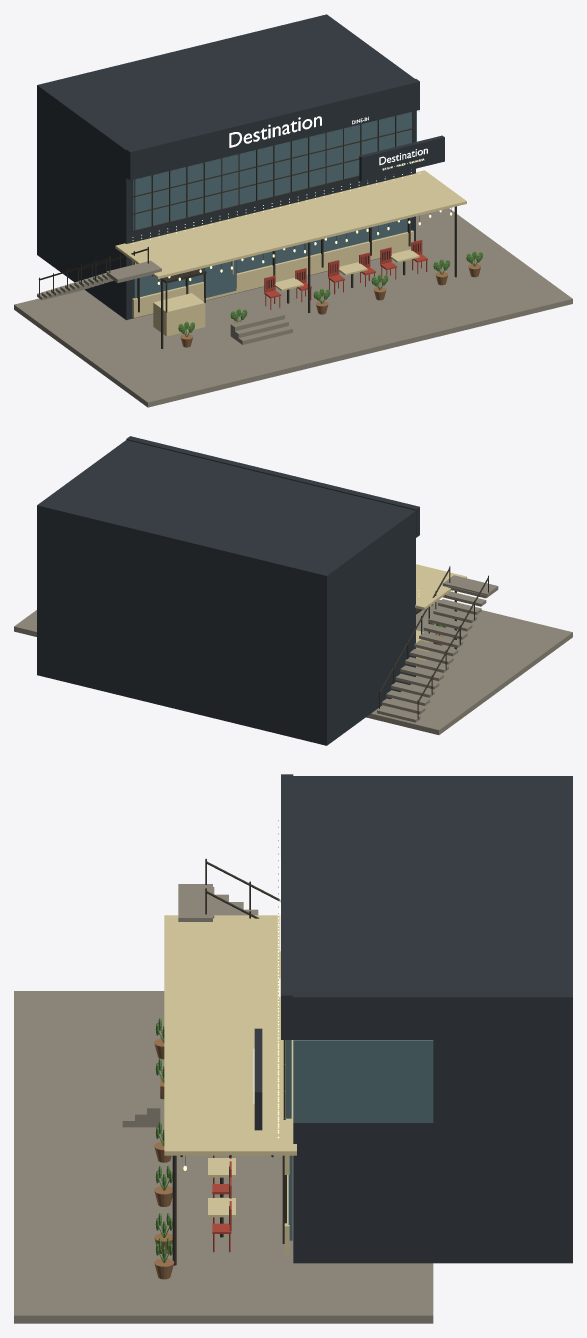
Rendered from destination_dine_in.glb.
The picture shows the model from 3 angles, top to bottom: view 1: azimuth 30°, elevation 25°; view 2: azimuth 150°, elevation 25°; view 3: azimuth 270°, elevation 25°; orthographic projection. The views are drawn at different scales.
Parts seen in each view (by area): view 1: Restaurant estimated body, Forecourt, Entrance canopy.002, Upper panoramic glass, Top name fascia, Ground lower cream band, Ground glazing, Projecting name board, Shawarma counter, Ground entrance door, Upper stair landing, Destination upper name (+2 smaller); view 2: Restaurant estimated body, Forecourt, Top name fascia, Entrance canopy.002, Upper stair landing; view 3: Restaurant estimated body, Forecourt, Entrance canopy.002, Upper side glass, Top name fascia, Upper stair landing, Projecting name board, Front access step.
Part boxes in pixels (box(x1,y1,x2,y2)): Restaurant estimated body: box(37, 14, 415, 320); Forecourt: box(14, 208, 572, 407); Entrance canopy.002: box(115, 170, 466, 279); Upper panoramic glass: box(131, 112, 412, 230); Top name fascia: box(126, 79, 419, 180); Ground lower cream band: box(132, 230, 413, 317); Ground glazing: box(133, 218, 410, 298); Projecting name board: box(359, 135, 444, 181); Shawarma counter: box(153, 293, 205, 336); Ground entrance door: box(203, 260, 236, 297); Upper stair landing: box(106, 260, 161, 282); Destination upper name: box(229, 116, 321, 147); Restaurant estimated body: box(37, 440, 415, 745); Forecourt: box(14, 599, 572, 734); Top name fascia: box(126, 436, 419, 537); Entrance canopy.002: box(415, 564, 466, 609); Upper stair landing: box(442, 575, 498, 597); Restaurant estimated body: box(293, 776, 572, 1263); Forecourt: box(14, 991, 433, 1323); Entrance canopy.002: box(164, 915, 296, 1155); Upper side glass: box(293, 1040, 433, 1122); Top name fascia: box(281, 774, 293, 1039); Upper stair landing: box(178, 884, 212, 921); Projecting name board: box(254, 1028, 262, 1130); Front access step: box(147, 1070, 160, 1127).
Size of the model in its own units: 22 by 8.72 by 16.
